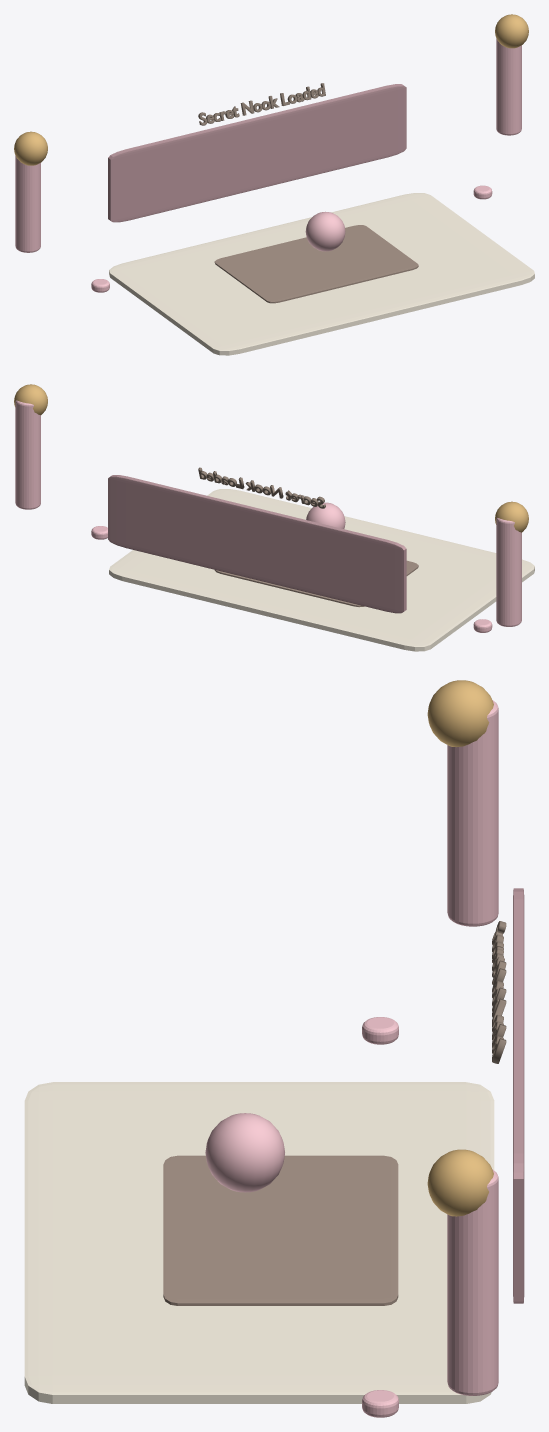
File: 11_sub_scenes_nook.glb
3 views of the same model, one above another, from view 1: azimuth 30°, elevation 25°; view 2: azimuth 150°, elevation 25°; view 3: azimuth 270°, elevation 25° (orthographic). The views are drawn at different scales.
Parts seen in each view (by area): view 1: PaperFloor-col, BackCard, StageMat, PaperLantern, PaperLantern.001, NookGem, TitleLabel, LanternGlow, LanternGlow.001; view 2: BackCard, PaperFloor-col, PaperLantern.001, PaperLantern, TitleLabel, NookGem, LanternGlow, LanternGlow.001, StageMat; view 3: PaperFloor-col, StageMat, PaperLantern, PaperLantern.001, NookGem, BackCard, LanternGlow.001, LanternGlow, TitleLabel, CardConfetti, CardConfetti.001.
Boxes of the visible parts, x1,y1,x2,y2 form: PaperFloor-col: (109, 193, 534, 355); BackCard: (108, 84, 406, 222); StageMat: (214, 225, 418, 303); PaperLantern: (15, 155, 40, 252); PaperLantern.001: (496, 38, 521, 135); NookGem: (305, 211, 345, 251); TitleLabel: (198, 83, 325, 125); LanternGlow: (14, 131, 47, 165); LanternGlow.001: (495, 14, 528, 48); BackCard: (108, 475, 406, 613); PaperFloor-col: (109, 489, 534, 651); PaperLantern.001: (15, 400, 40, 509); PaperLantern: (496, 518, 521, 626); TitleLabel: (198, 467, 325, 508); NookGem: (306, 502, 345, 528); LanternGlow: (495, 501, 528, 532); LanternGlow.001: (14, 384, 47, 415); StageMat: (214, 560, 418, 607); PaperFloor-col: (24, 1082, 494, 1403); StageMat: (163, 1155, 398, 1305); PaperLantern: (447, 700, 498, 926); PaperLantern.001: (447, 1169, 498, 1395); NookGem: (205, 1113, 284, 1192); BackCard: (513, 888, 524, 1303); LanternGlow.001: (427, 1149, 493, 1216); LanternGlow: (427, 680, 493, 747); TitleLabel: (492, 921, 506, 1063); CardConfetti: (362, 1017, 398, 1044); CardConfetti.001: (362, 1390, 398, 1417).
Bounding box in the file's own units: 8.28 × 2.56 × 3.51.
